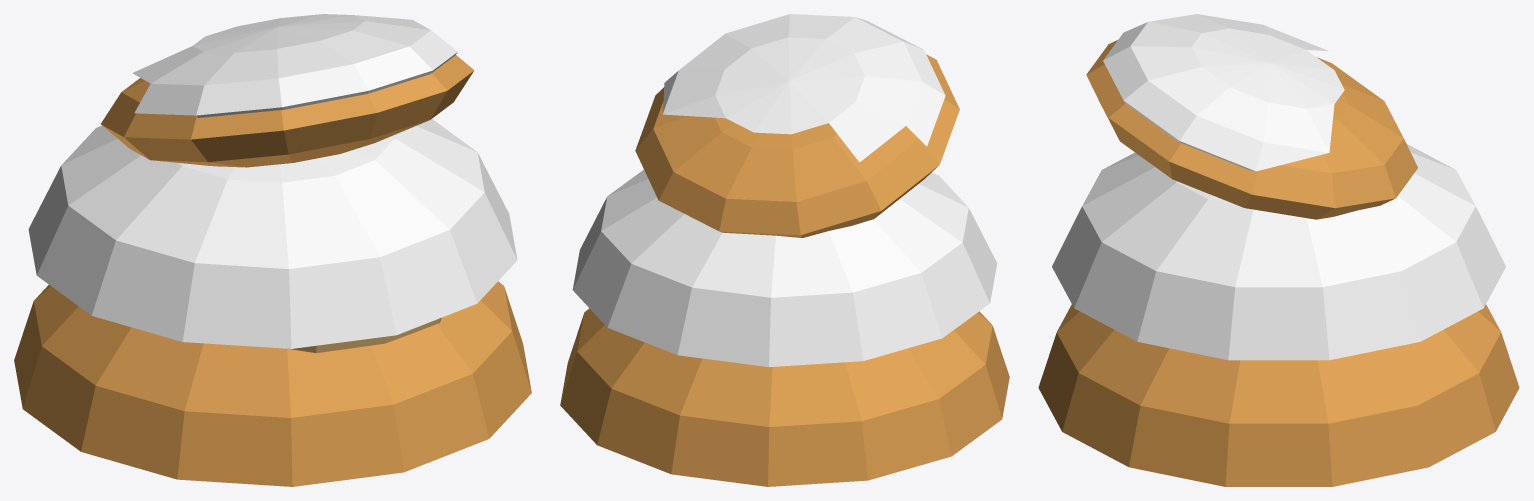
Rendered from semla.glb.
3 views of the same model, side by side, from view 1: azimuth 30°, elevation 25°; view 2: azimuth 150°, elevation 25°; view 3: azimuth 270°, elevation 25° (orthographic). The views are drawn at different scales.
Parts seen in each view (by area): view 1: semla; view 2: semla; view 3: semla.
Part boxes in pixels (bbox=[...]): semla: bbox=[14, 14, 531, 486]; semla: bbox=[560, 14, 1009, 486]; semla: bbox=[1038, 14, 1519, 486].
Size of the model in its own units: 0.351 by 0.282 by 0.36.
